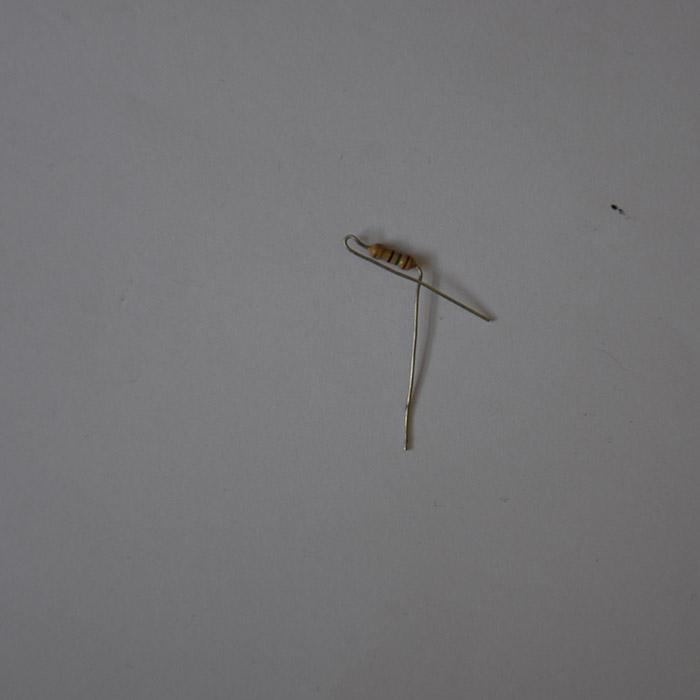resistor: (367, 242, 414, 270)
